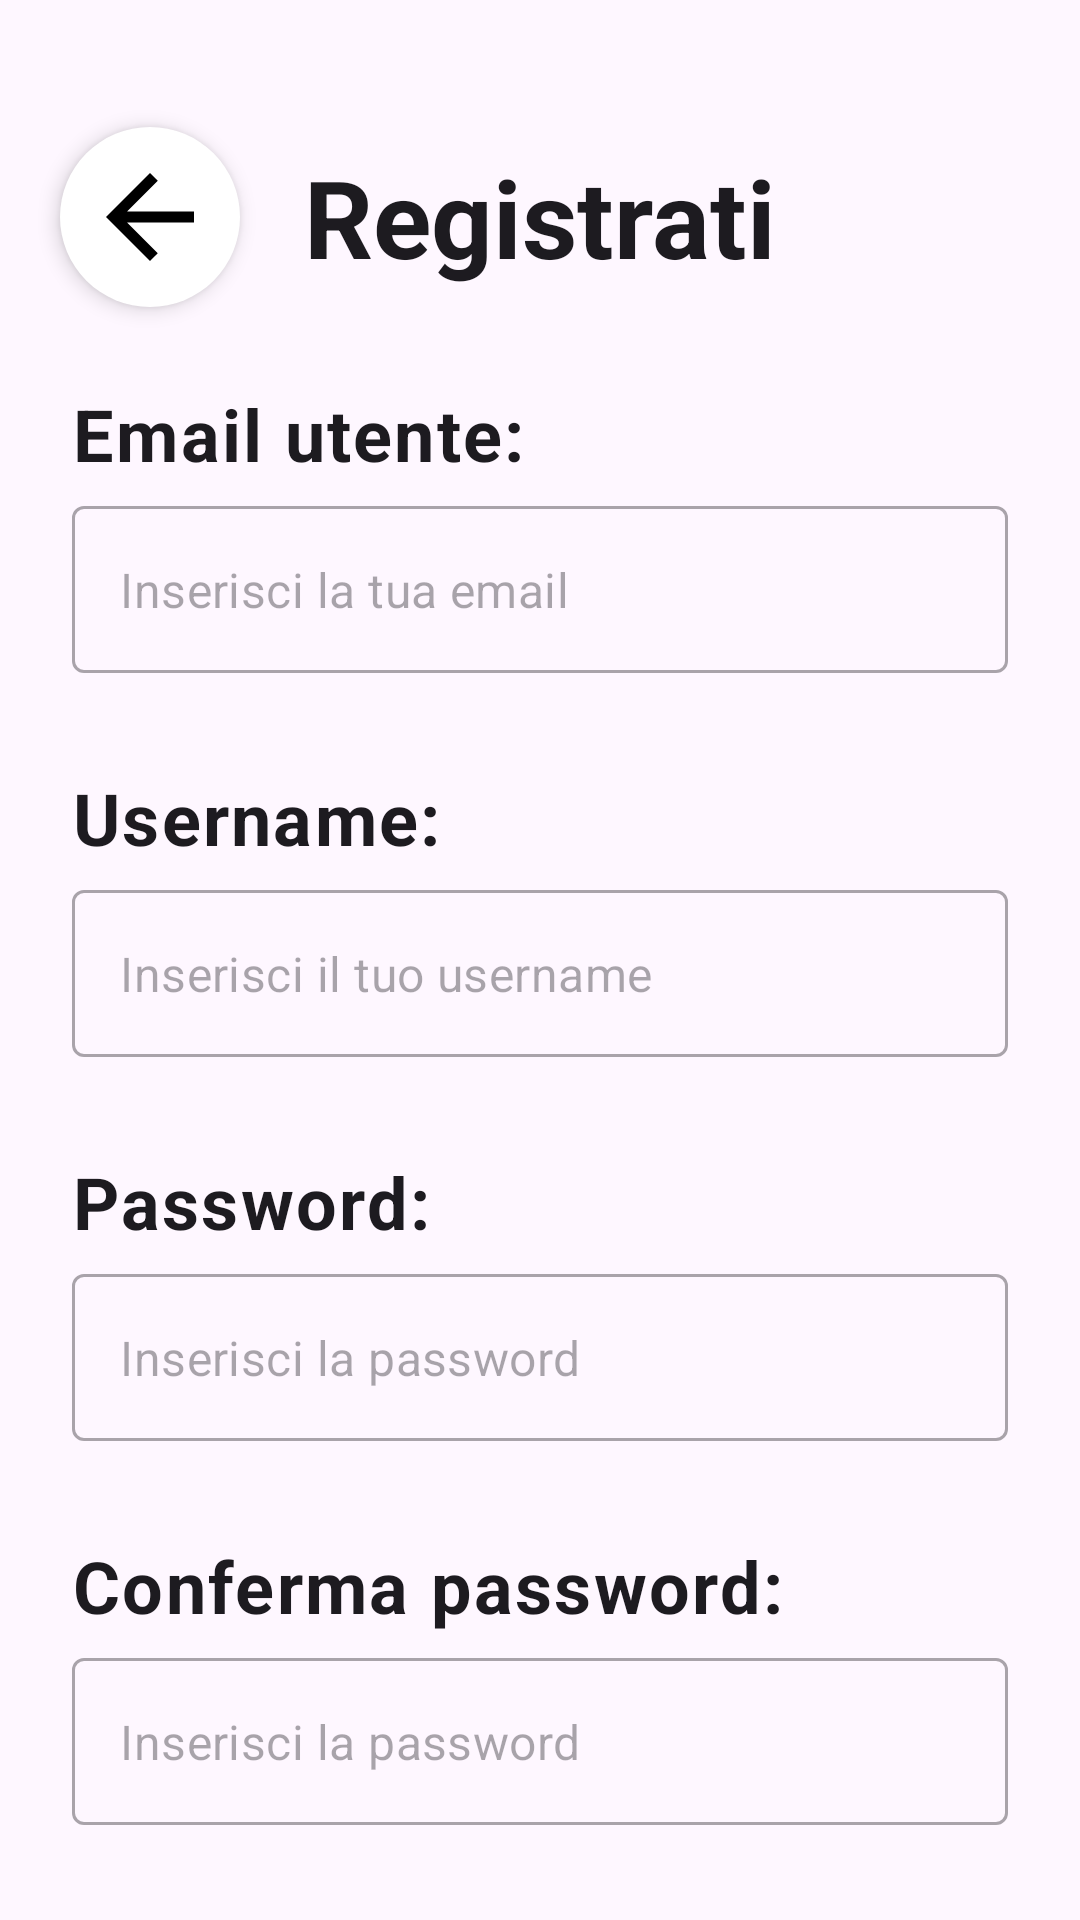

Icon click points for this 1080px×1920px phone screenshot, format point (x, y):
Torna indietro: point (150, 217)
